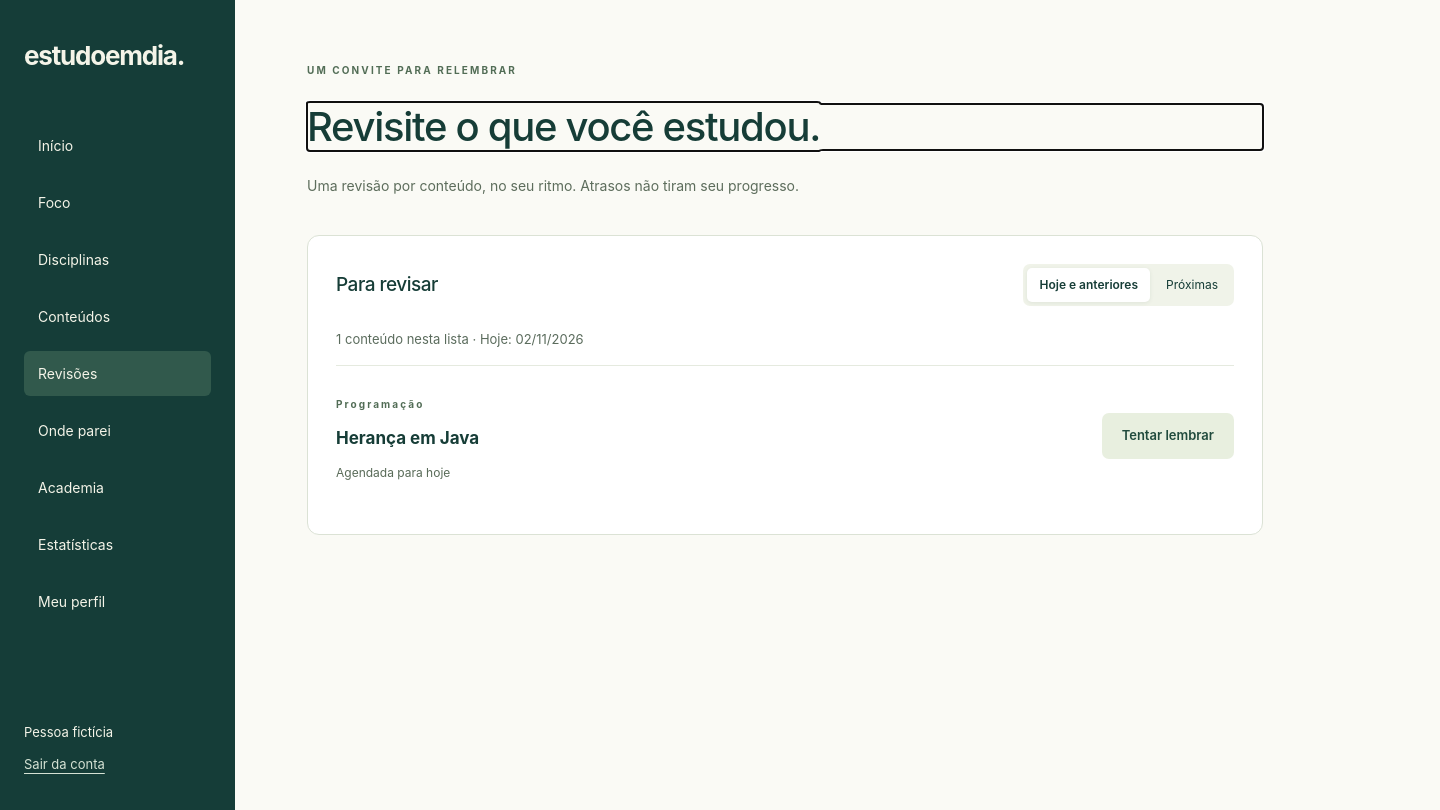
Scenario: revisão por autoavaliação › lista vencidas uma vez e permite consultar o estado vazio das futuras
The width and height of the screenshot is (1440, 810).
Expected: the heading "Herança em Java" is shown, [336,426,479,452]
Expected: the number of links "Tentar lembrar" is 1, [1102,413,1234,459]
Click the button "Próximas". click: x=1192, y=285
box: [1154,268,1230,302]
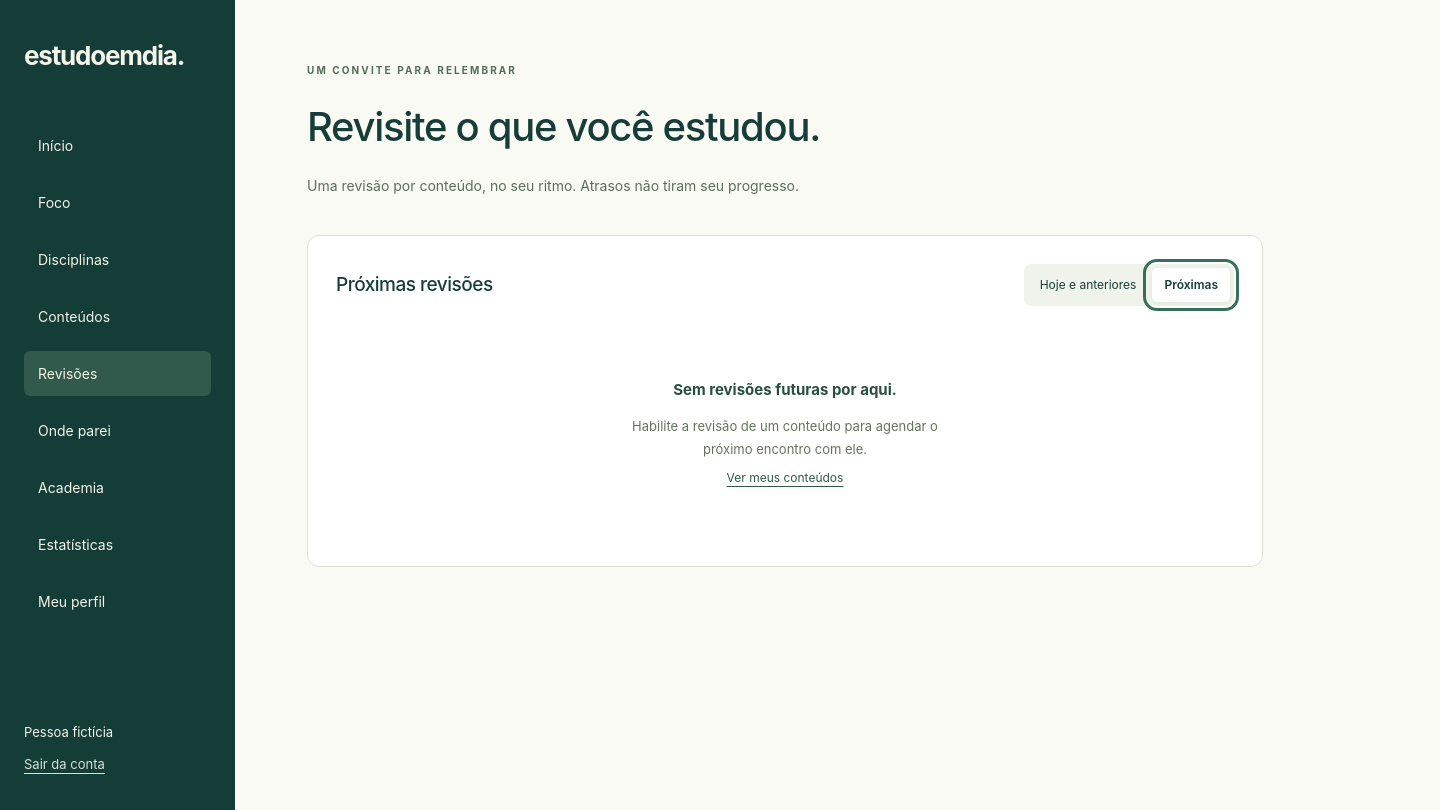
Expected: the heading "Sem revisões futuras por aqui." is shown, [673,380,897,399]
Expected: the link "Tentar lembrar" is gone
